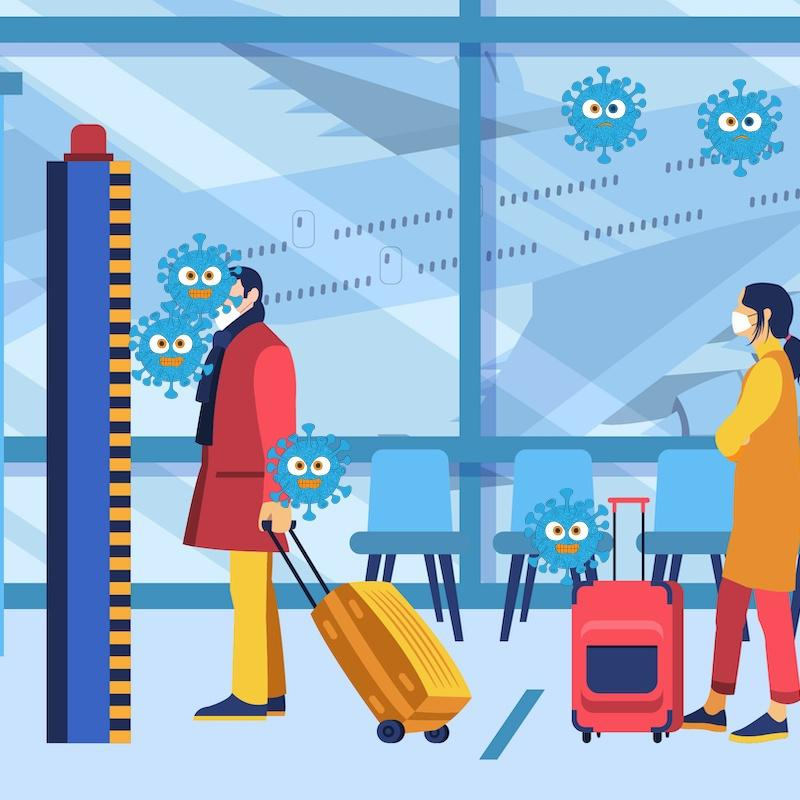corona1: (154, 235, 250, 328), (127, 303, 212, 405), (261, 425, 354, 516), (526, 490, 606, 586)
corona2: (697, 81, 795, 186), (556, 63, 643, 166)
